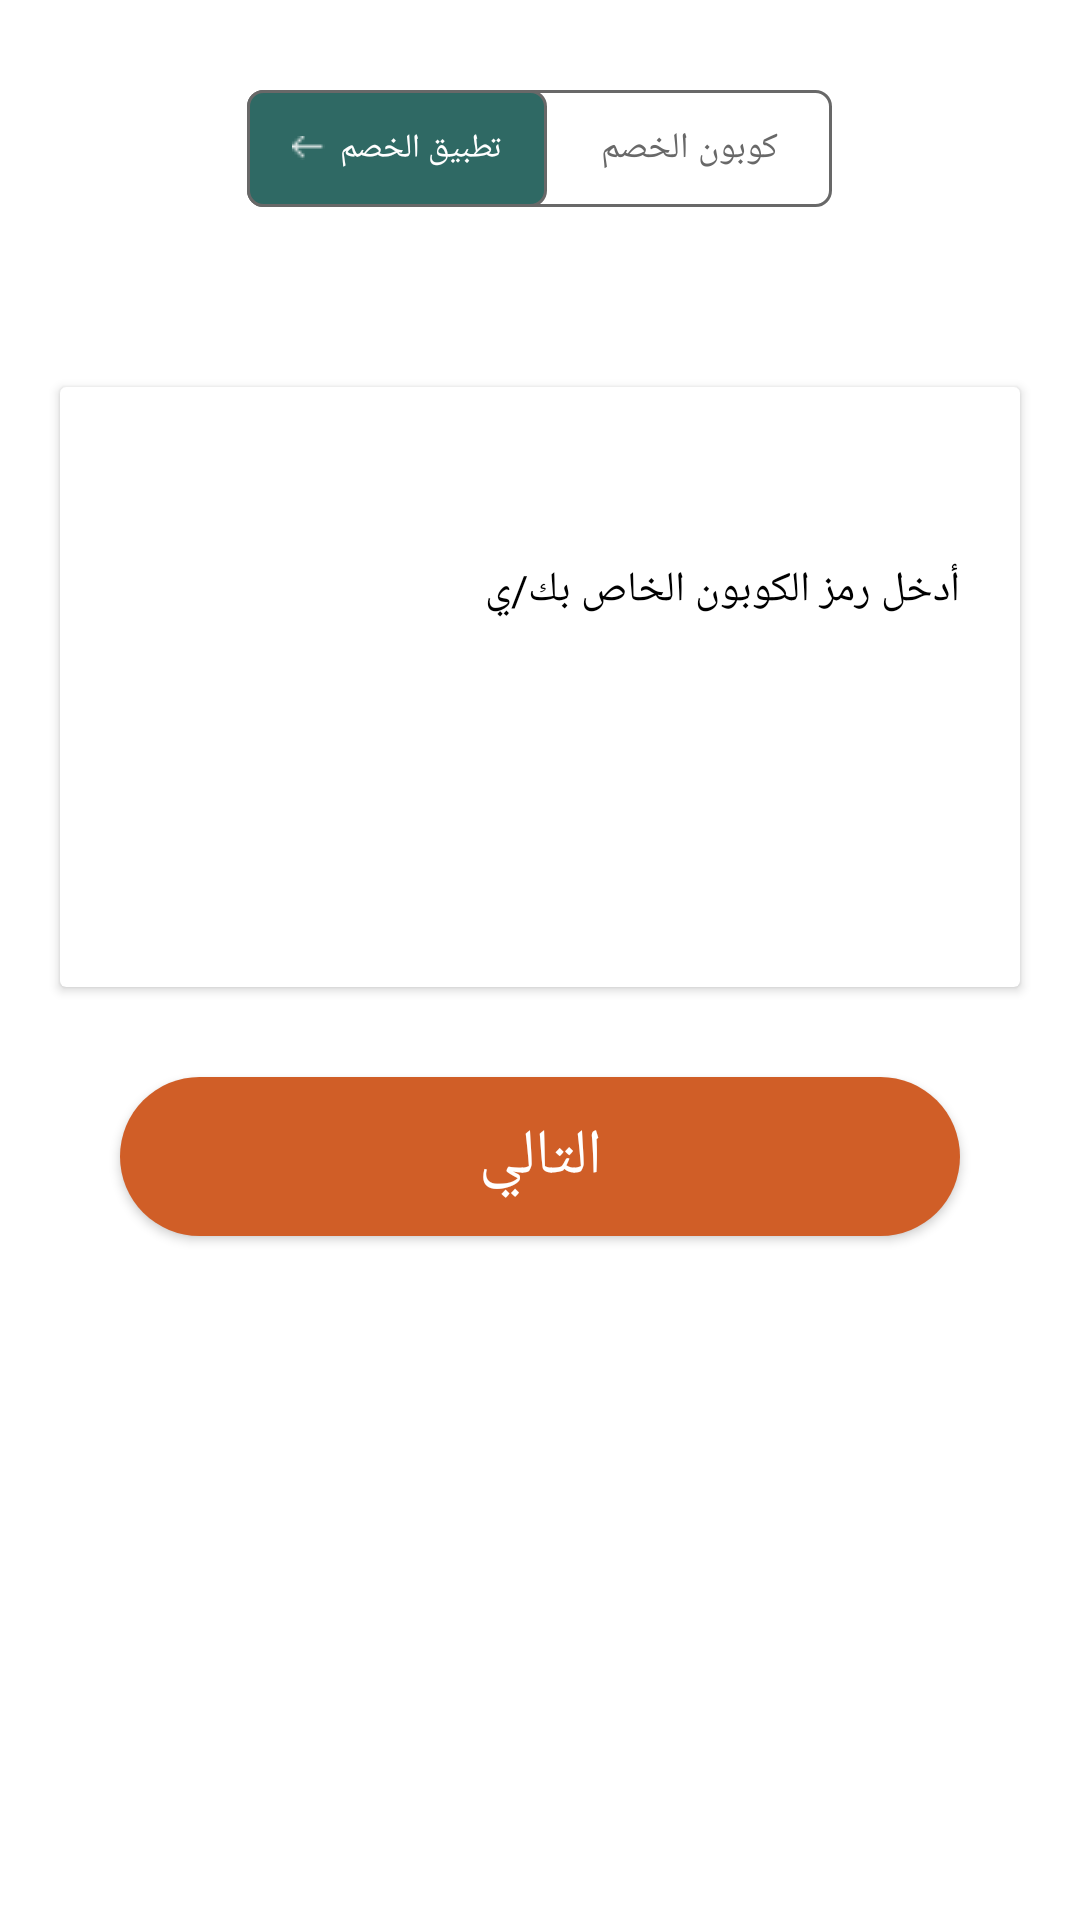

Locate icon controls on the screen. Image size 1080w x 1920h, boxes as rect(x1, y1, x2, y2).
toword: rect(292, 136, 323, 158)
